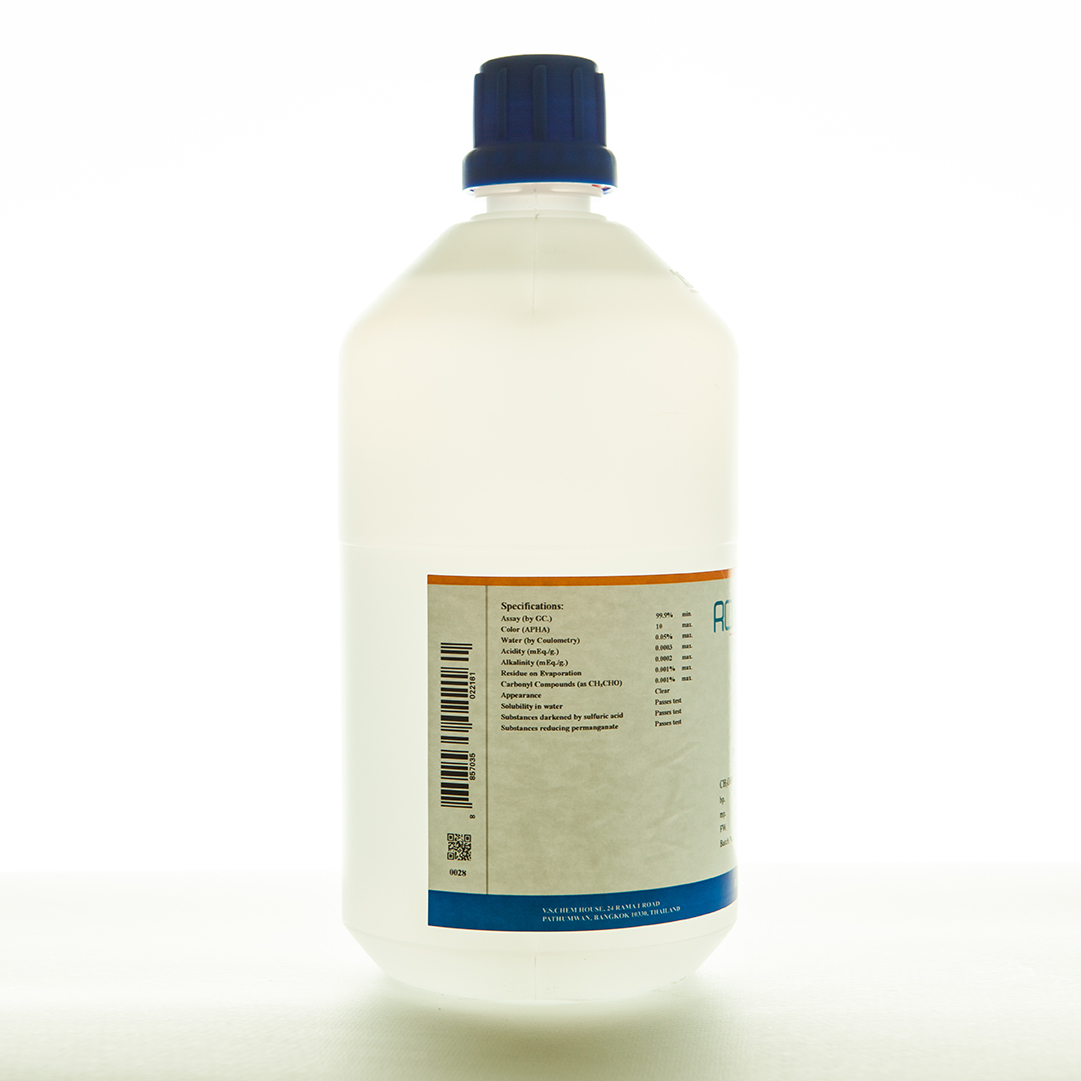plastic_bottle: (329, 48, 755, 1010)
